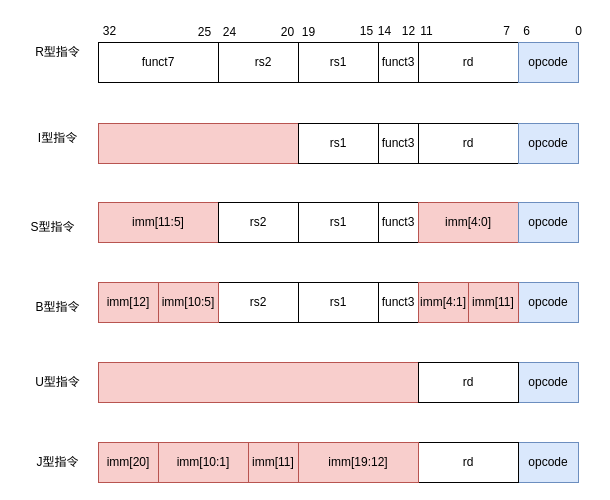
The diagram is 610 pixels wide and 500 high, and some of its shapes have lost their labels. The box of each missing label's shape, as (x1, y1, x2, y2) in pixels:
imm[11:0]: (98, 122, 298, 164)
imm[31:12]: (98, 362, 418, 402)
